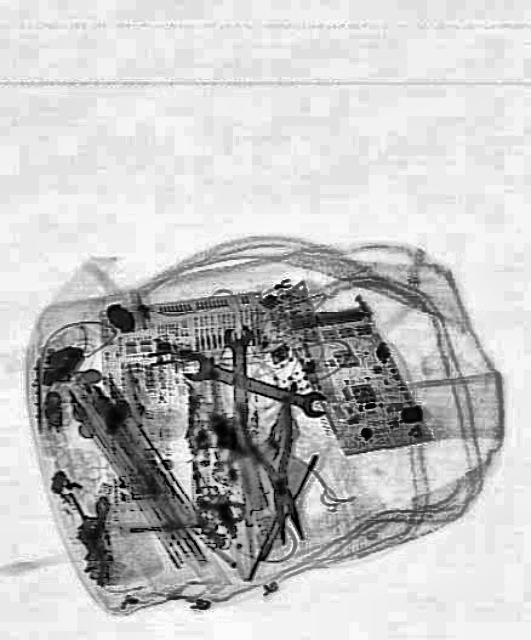Pliers: (235, 388, 317, 548)
Wrench: (182, 350, 330, 420), (224, 322, 252, 426)
